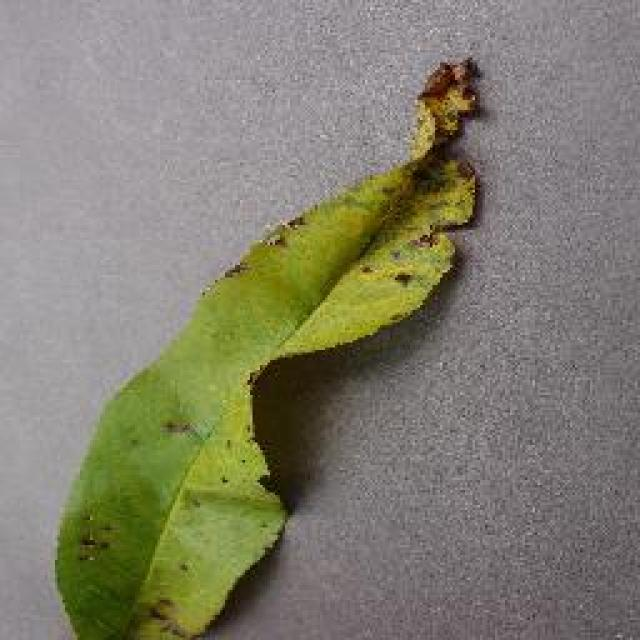Pea_Bacterial_spot: (360, 55, 510, 279), (73, 519, 184, 640)
